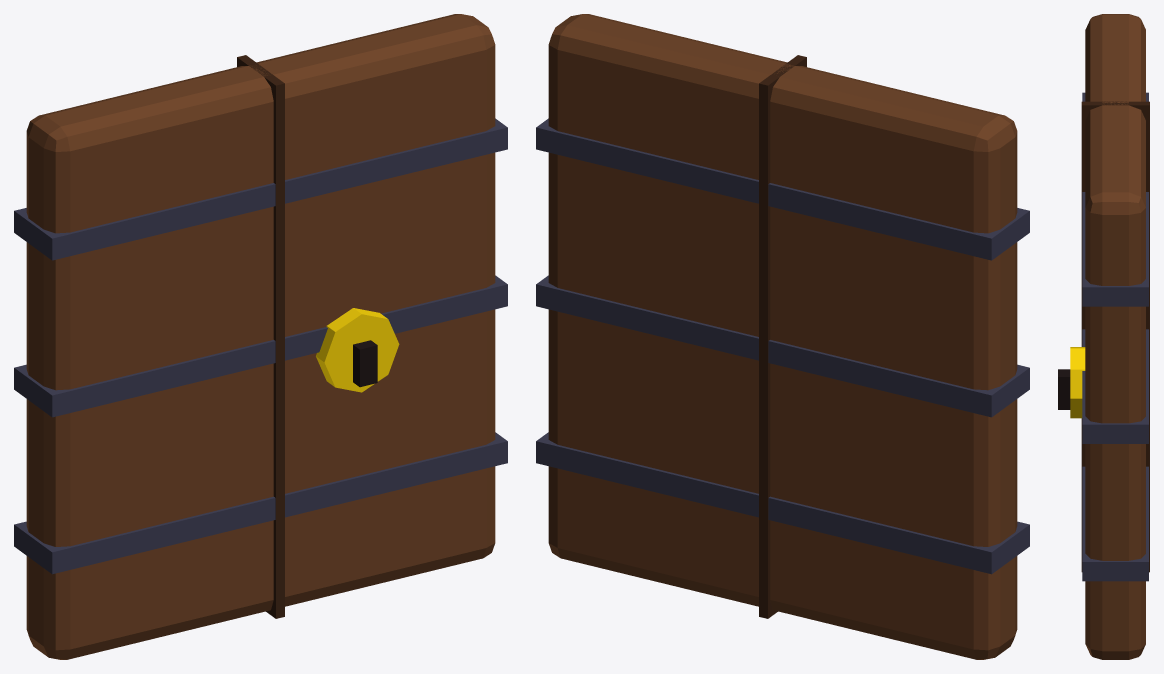
File: door.glb
3 renders of one model, left to right at view 1: azimuth 30°, elevation 25°; view 2: azimuth 150°, elevation 25°; view 3: azimuth 270°, elevation 25°, orthographic. The views are drawn at different scales.
Visible parts, largest first — view 1: p_rbox.088, p_box.851, p_box.849, p_box.850, p_box.852, p_cyl.041, p_box.853; view 2: p_rbox.088, p_box.851, p_box.849, p_box.850, p_box.852; view 3: p_rbox.088, p_box.852, p_box.851, p_box.849, p_box.850, p_cyl.041, p_box.853.
Part boxes in pixels (<box>): p_rbox.088: <box>26,14,495,659</box>; p_box.851: <box>14,118,507,260</box>; p_box.849: <box>14,432,507,574</box>; p_box.850: <box>14,275,507,417</box>; p_box.852: <box>237,55,284,618</box>; p_cyl.041: <box>316,308,399,392</box>; p_box.853: <box>353,340,377,387</box>; p_rbox.088: <box>548,14,1017,659</box>; p_box.851: <box>536,118,1029,260</box>; p_box.849: <box>536,432,1029,574</box>; p_box.850: <box>536,275,1029,417</box>; p_box.852: <box>759,55,806,618</box>; p_rbox.088: <box>1085,14,1145,659</box>; p_box.852: <box>1081,101,1149,572</box>; p_box.851: <box>1082,92,1148,306</box>; p_box.849: <box>1082,466,1148,581</box>; p_box.850: <box>1082,329,1148,443</box>; p_cyl.041: <box>1070,347,1085,418</box>; p_box.853: <box>1058,369,1070,409</box>.
Bounding box in the file's own units: 3.04 × 3.4 × 0.605.
